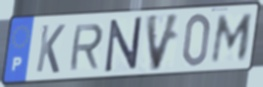0: (180, 12, 212, 69)
K: (34, 23, 67, 75)
M: (209, 12, 256, 66)
N: (104, 15, 144, 75)
R: (67, 22, 106, 73)
V: (144, 11, 183, 74)
